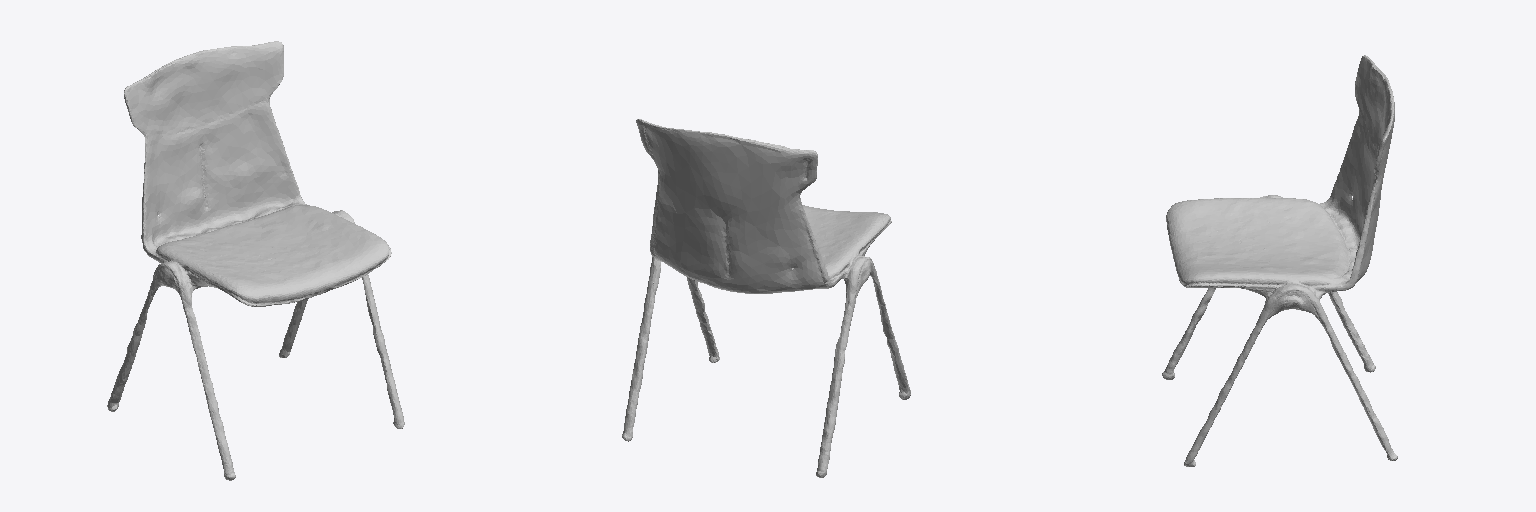
The model's file is chair.obj.
The picture shows the model from 3 angles: view 1: azimuth 30°, elevation 25°; view 2: azimuth 150°, elevation 25°; view 3: azimuth 270°, elevation 25°; orthographic projection.
Visible parts, largest first — view 1: Mesh; view 2: Mesh; view 3: Mesh.
Boxes of the visible parts, x1=… form: Mesh: x1=107, y1=41, x2=404, y2=480; Mesh: x1=622, y1=119, x2=910, y2=477; Mesh: x1=1162, y1=55, x2=1397, y2=466.
Size of the model in its own units: 0.5362 by 0.8147 by 0.5301.